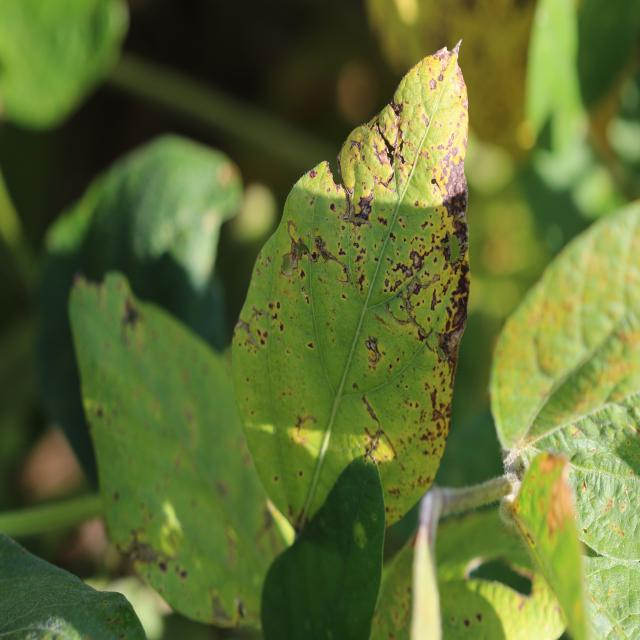Bacterial_Blight: (281, 225, 342, 292), (389, 279, 437, 344), (361, 392, 396, 465), (423, 385, 454, 441), (236, 306, 274, 349), (442, 185, 469, 226), (341, 195, 367, 227), (292, 412, 316, 446), (371, 137, 393, 170), (389, 257, 418, 281), (365, 336, 382, 366), (440, 231, 452, 264), (294, 507, 308, 530), (390, 98, 403, 118), (429, 77, 437, 91), (431, 177, 440, 188), (422, 113, 429, 127), (265, 256, 271, 267), (309, 170, 317, 178), (329, 203, 336, 212), (307, 342, 314, 349)
Soybean: (227, 46, 471, 640)
